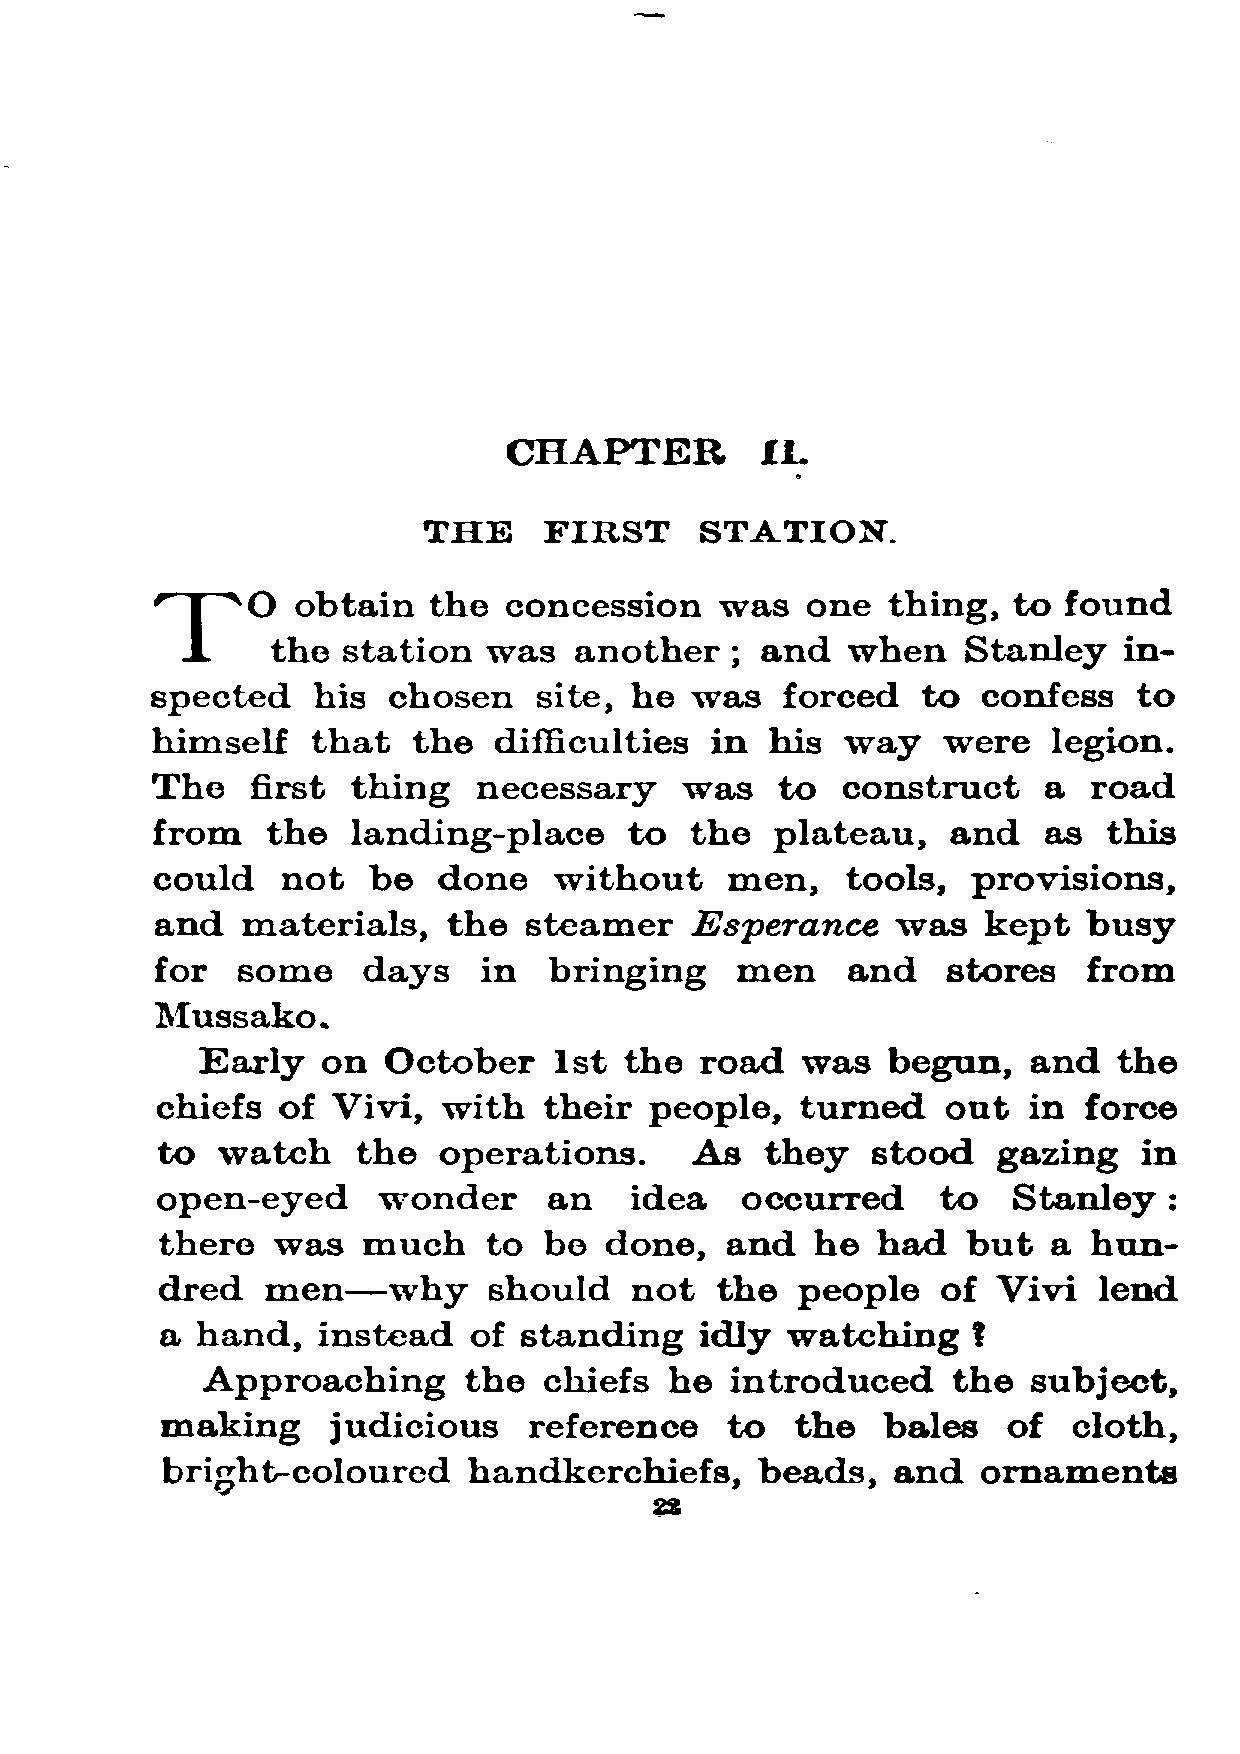chapter: (417, 435, 895, 544)
content: (148, 588, 1176, 1491)
content_pagenumber: (650, 1491, 684, 1520)
